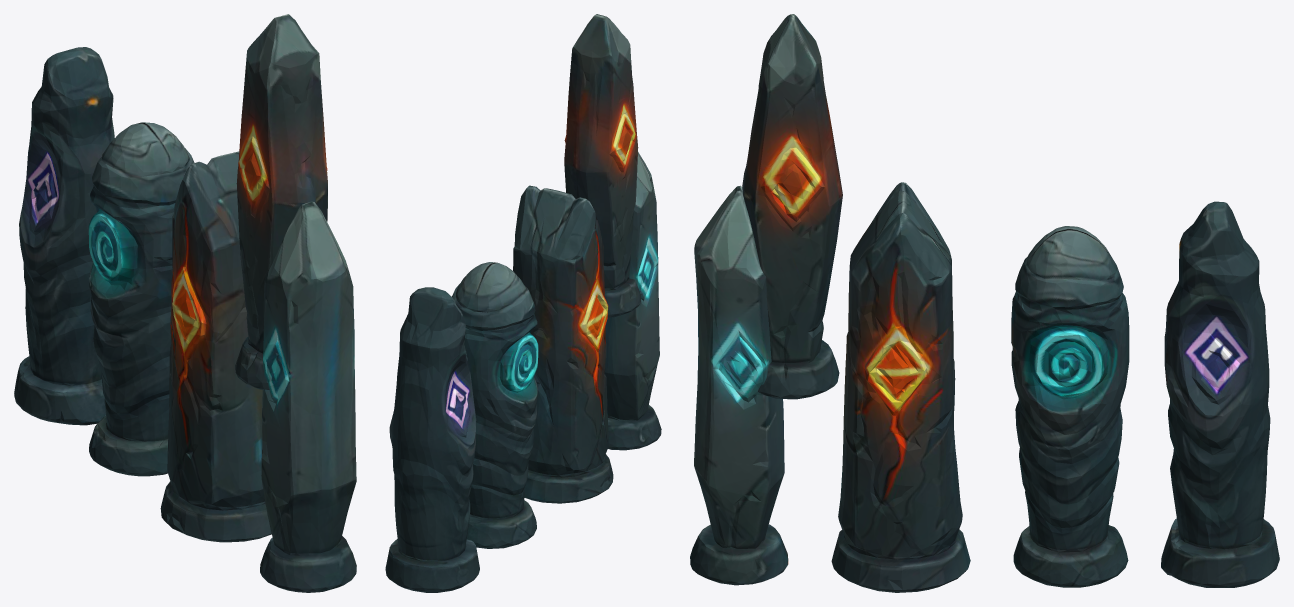
File: Pilar2.fbx
3 views of the same model, side by side, from view 1: azimuth 30°, elevation 25°; view 2: azimuth 150°, elevation 25°; view 3: azimuth 270°, elevation 25° (orthographic). The views are drawn at different scales.
Parts seen in each view (by area): view 1: Pilar3, Pilar4, Pilar5, Pilar6, Pilar2; view 2: Pilar4, Pilar6, Pilar5, Pilar2, Pilar3; view 3: Pilar4, Pilar5, Pilar6, Pilar3, Pilar2.
Boxes of the visible parts, x1,y1,x2,y2 form: Pilar3: [260, 201, 356, 592]; Pilar4: [160, 151, 271, 542]; Pilar5: [88, 122, 194, 476]; Pilar6: [14, 47, 114, 425]; Pilar2: [235, 14, 327, 389]; Pilar4: [513, 185, 613, 503]; Pilar6: [385, 287, 479, 592]; Pilar5: [452, 262, 538, 548]; Pilar2: [564, 14, 641, 317]; Pilar3: [605, 152, 661, 450]; Pilar4: [831, 182, 970, 592]; Pilar5: [1011, 226, 1129, 587]; Pilar6: [1161, 201, 1279, 587]; Pilar3: [690, 185, 788, 585]; Pilar2: [742, 14, 842, 399].
Size of the model in its own units: 14.21 by 61.86 by 60.
1 material, 1 textured.
